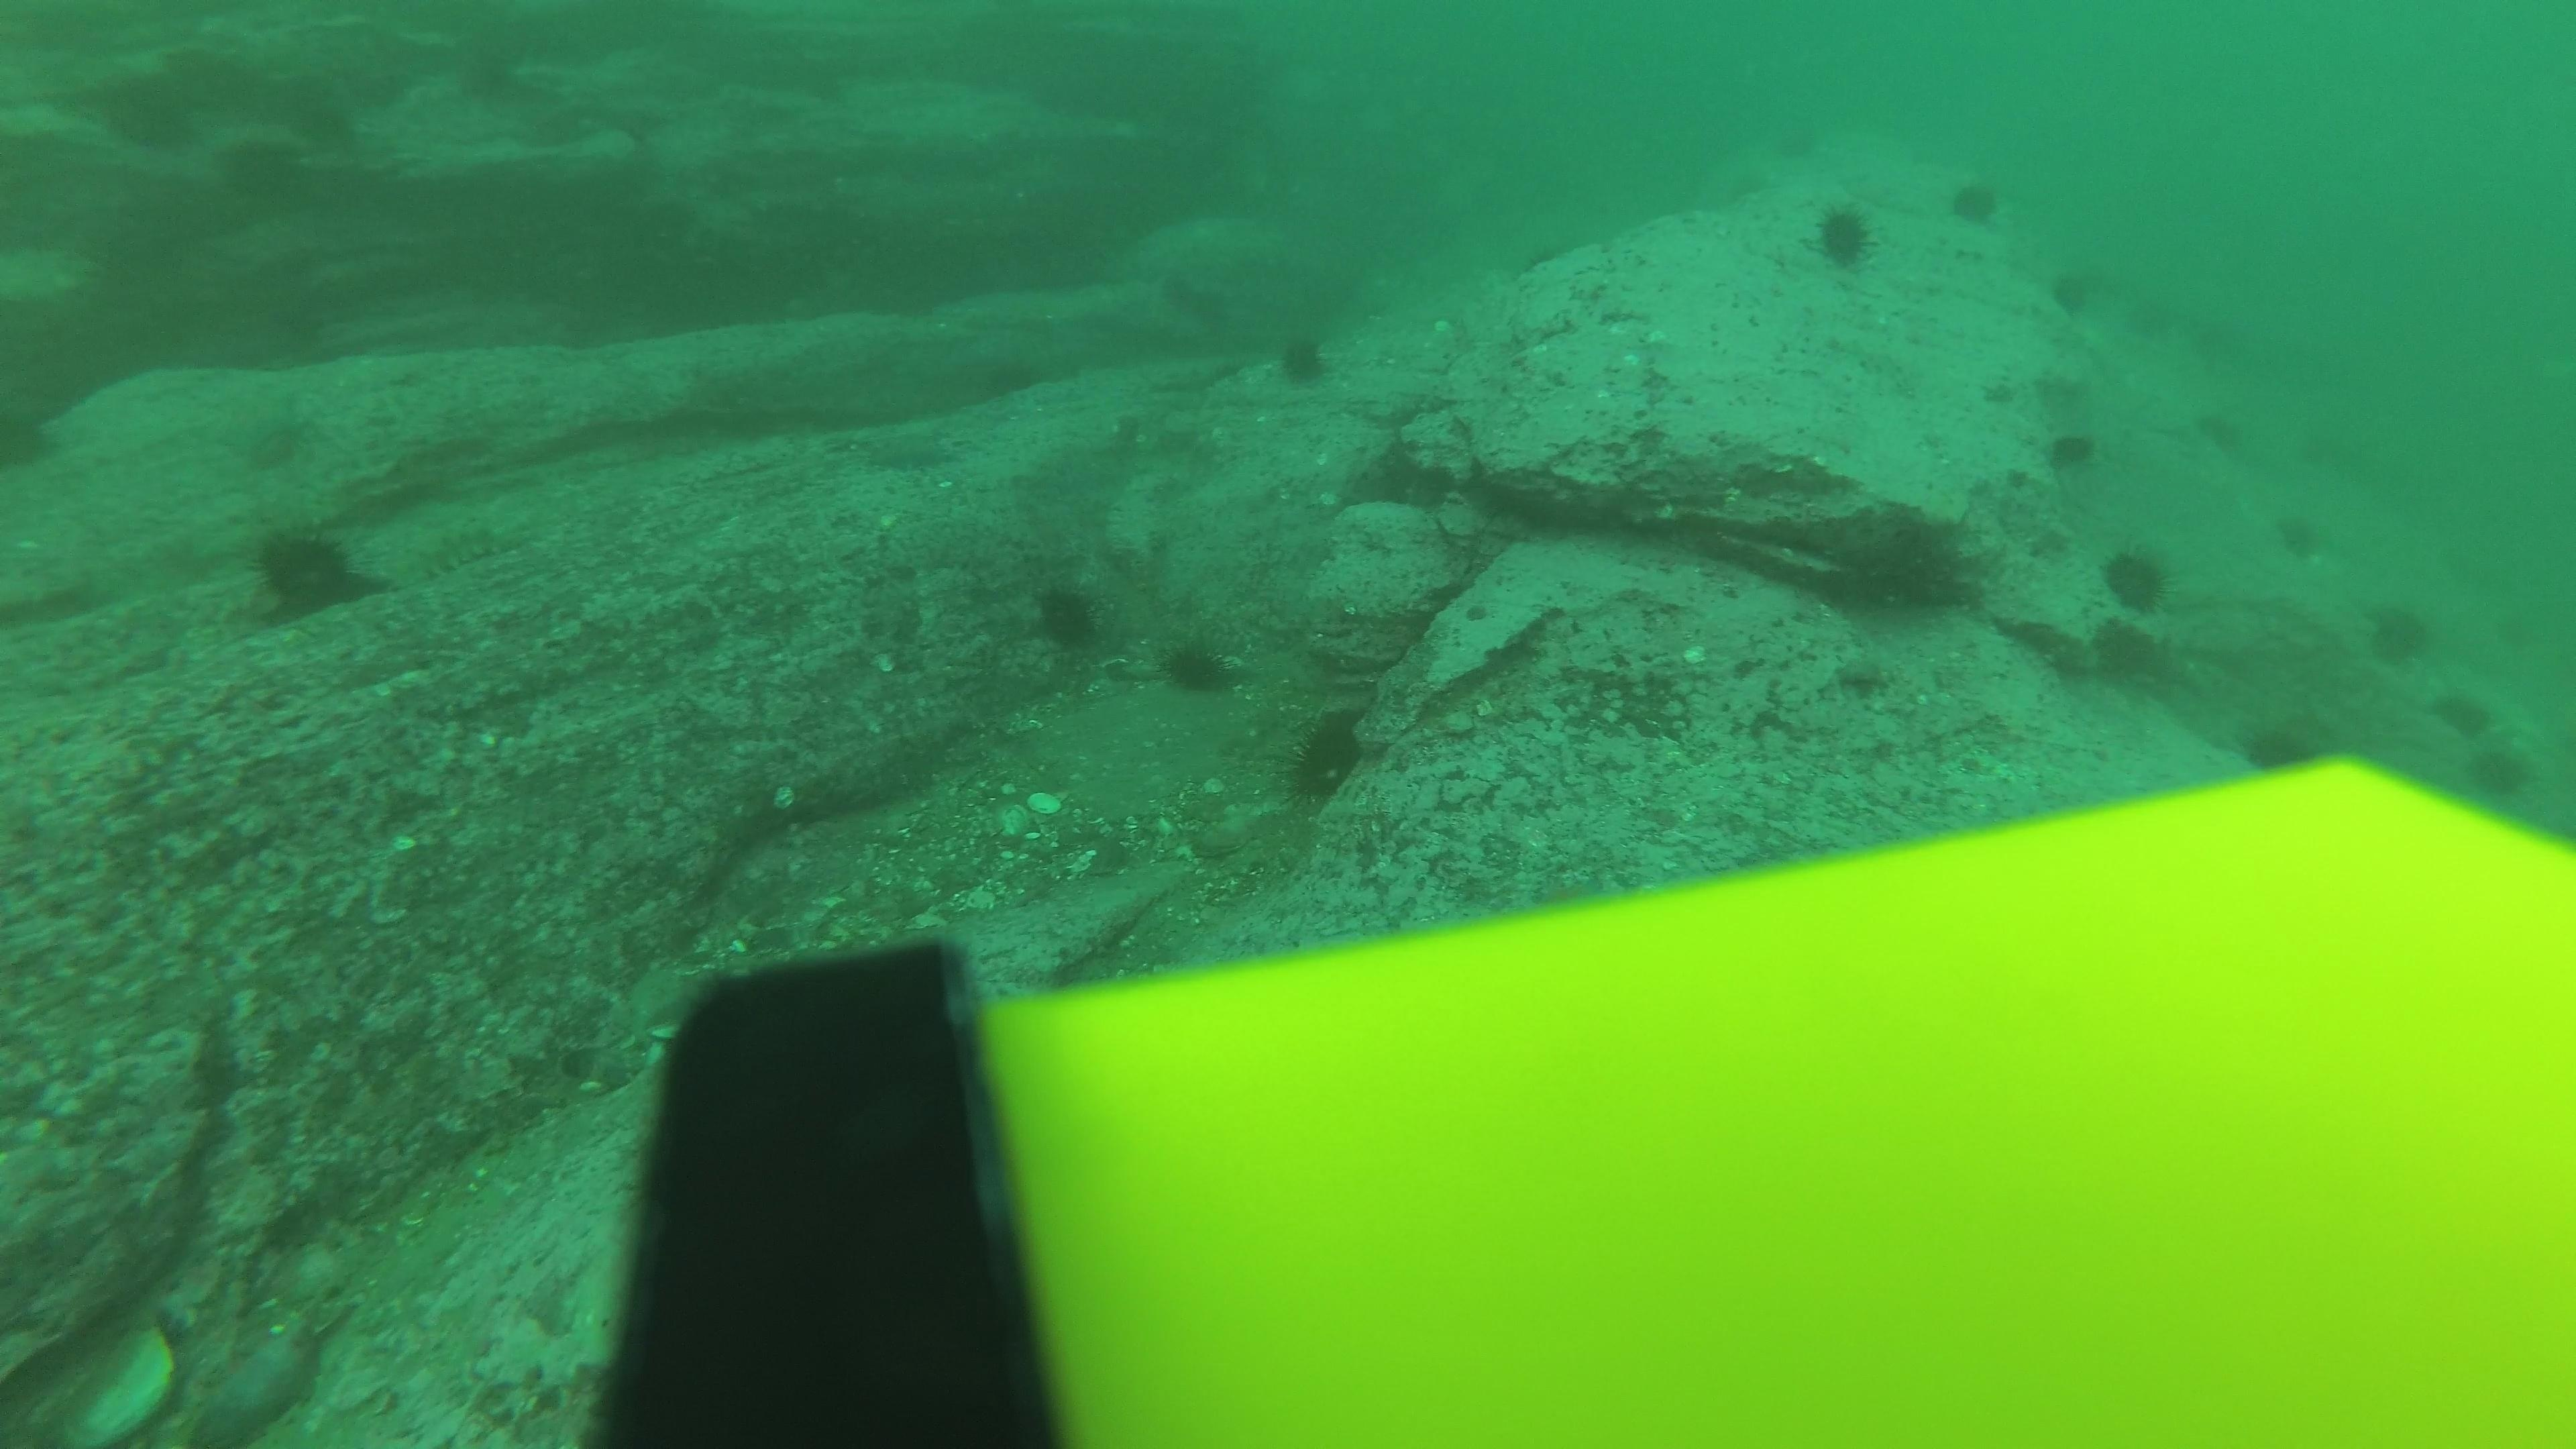echinus: (244, 518, 375, 625), (1277, 704, 1378, 810), (2068, 612, 2173, 692), (1026, 575, 1109, 655), (2235, 709, 2332, 777), (2095, 540, 2176, 616), (1155, 630, 1240, 701), (1805, 196, 1882, 272), (2362, 594, 2438, 669), (2457, 734, 2537, 805), (1269, 326, 1338, 391), (359, 51, 428, 117), (295, 80, 364, 145), (228, 113, 297, 179), (453, 41, 520, 106), (2429, 686, 2500, 745), (2105, 288, 2166, 345), (1946, 172, 2005, 228), (2045, 260, 2102, 318), (1773, 120, 1831, 177), (2042, 423, 2102, 478), (2190, 402, 2250, 456), (2268, 511, 2328, 566), (2187, 311, 2247, 366), (2282, 432, 2342, 487)
starfish: (180, 1311, 327, 1440), (230, 402, 318, 474), (855, 419, 959, 478)
